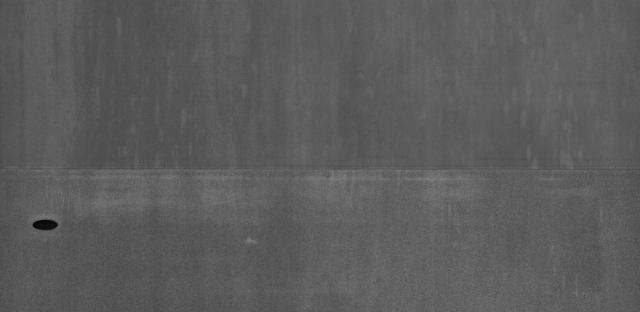punching_hole: (29, 215, 62, 236)
welding_line: (0, 161, 637, 181)
